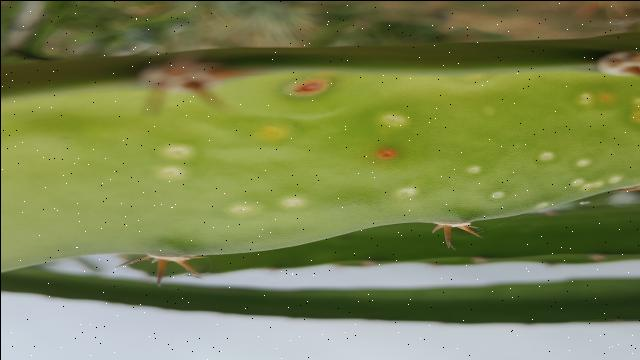stemcanker: (277, 71, 347, 104), (366, 144, 408, 166)
